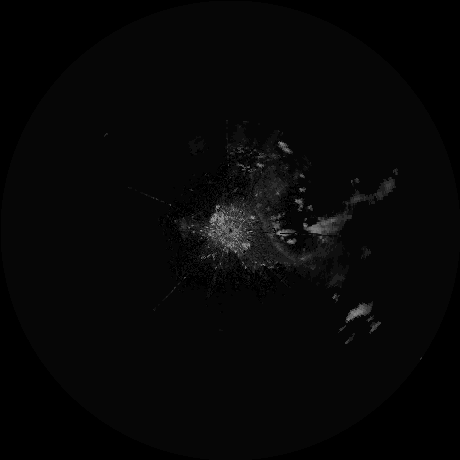frontgust: (256, 206, 284, 256)
